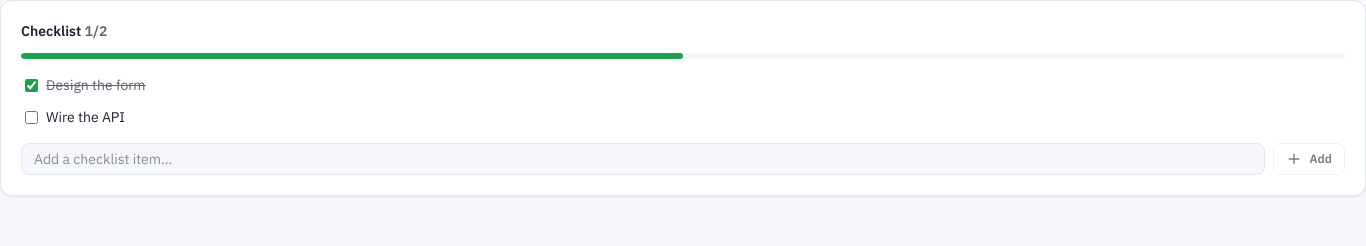
Test case: checklist (P4-5) › adds an item when managing
This screenshot has width=1366, height=246.
Check: the text "Design the form" is shown, box [46,76,146,94]
Type "Write tests" into the field labelled "Add a checklist item…".
click(643, 159); type("Write tests")  # box [21,143,1264,175]
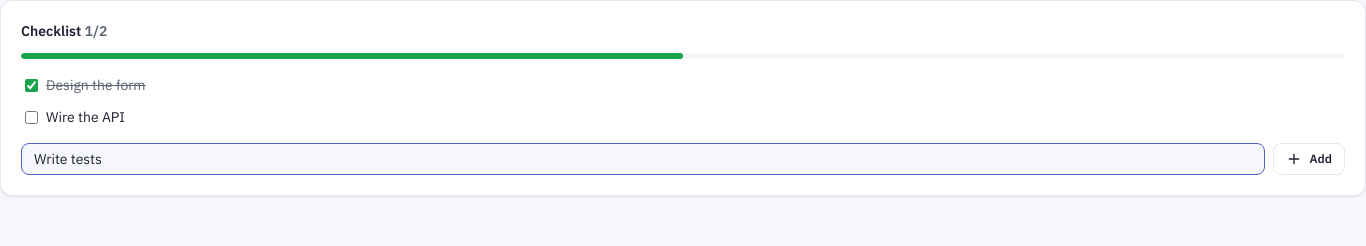
Click the button "Add".
click(1309, 159)  # box [1272,143,1345,175]
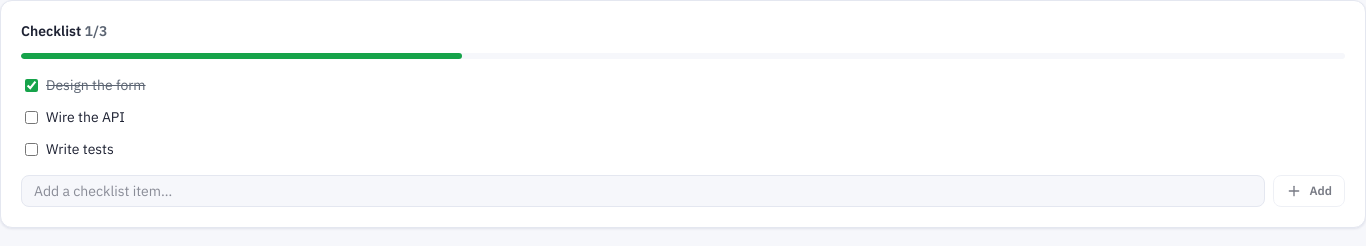
Check: the text "Write tests" is shown, box [46,140,114,158]
